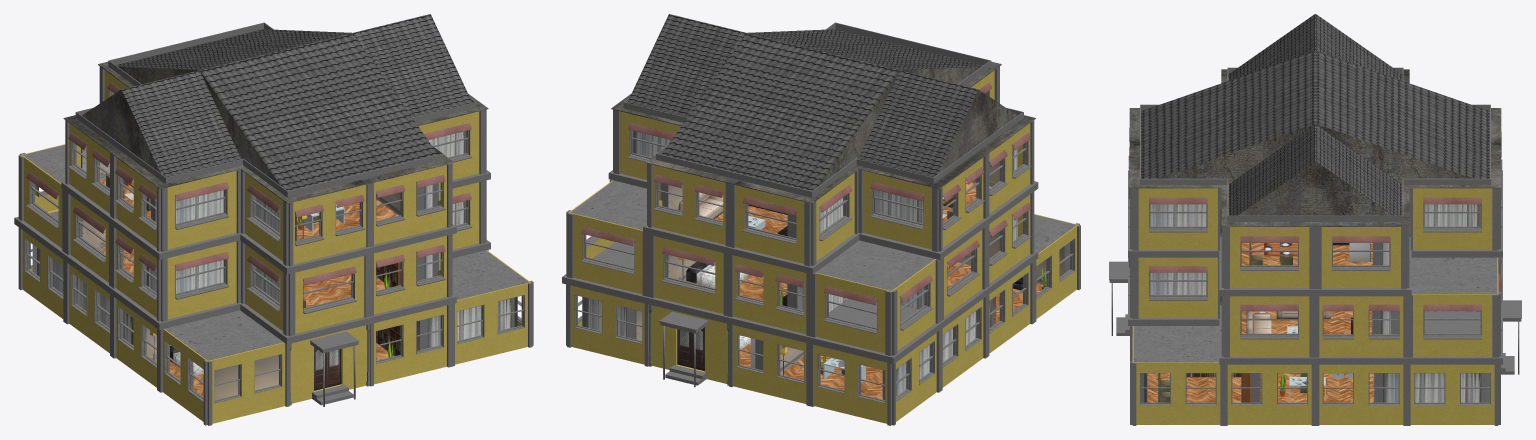
The model's file is Building_3stores_DoubleHouse.obj.
3 renders of one model, left to right at view 1: azimuth 30°, elevation 25°; view 2: azimuth 150°, elevation 25°; view 3: azimuth 270°, elevation 25°, orthographic. The views are drawn at different scales.
Visible parts, largest first — view 1: Building_3stores_DoubleHouse; view 2: Building_3stores_DoubleHouse; view 3: Building_3stores_DoubleHouse.
Boxes of the visible parts, x1=… form: Building_3stores_DoubleHouse: x1=14, y1=14, x2=533, y2=425; Building_3stores_DoubleHouse: x1=562, y1=14, x2=1080, y2=425; Building_3stores_DoubleHouse: x1=1109, y1=14, x2=1521, y2=425.
Bounding box in the file's own units: 5.38 × 4.11 × 5.92.
11 materials, 11 textured.
